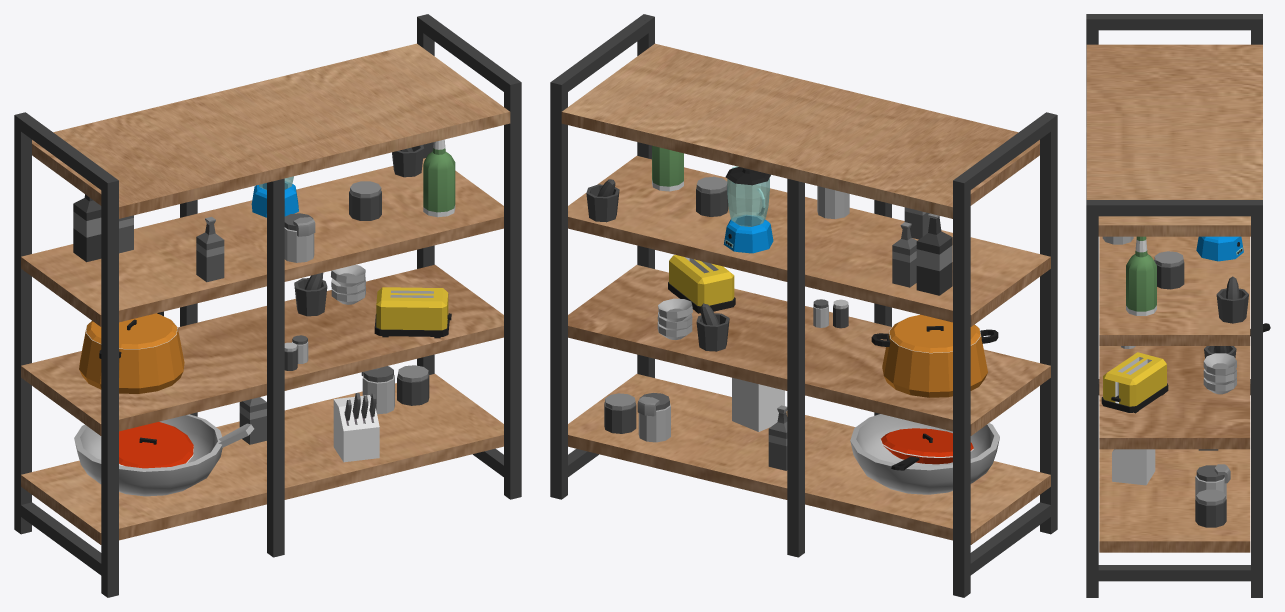
Rendered from Shelf_4.fbx.
The picture shows the model from 3 angles, left to right: view 1: azimuth 30°, elevation 25°; view 2: azimuth 150°, elevation 25°; view 3: azimuth 270°, elevation 25°; orthographic projection. The views are drawn at different scales.
Parts seen in each view (by area): view 1: Shelve_4; view 2: Shelve_4; view 3: Shelve_4.
Boxes of the visible parts, bbox=[...] form: Shelve_4: bbox=[14, 14, 521, 597]; Shelve_4: bbox=[550, 14, 1057, 597]; Shelve_4: bbox=[1086, 14, 1270, 597].
Bounding box in the file's own units: 558 × 534 × 227.
Materials: 18 (1 with a texture image).
